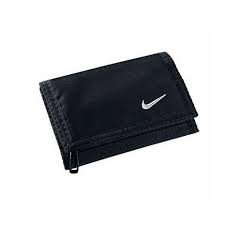monedero: (40, 51, 200, 174)
